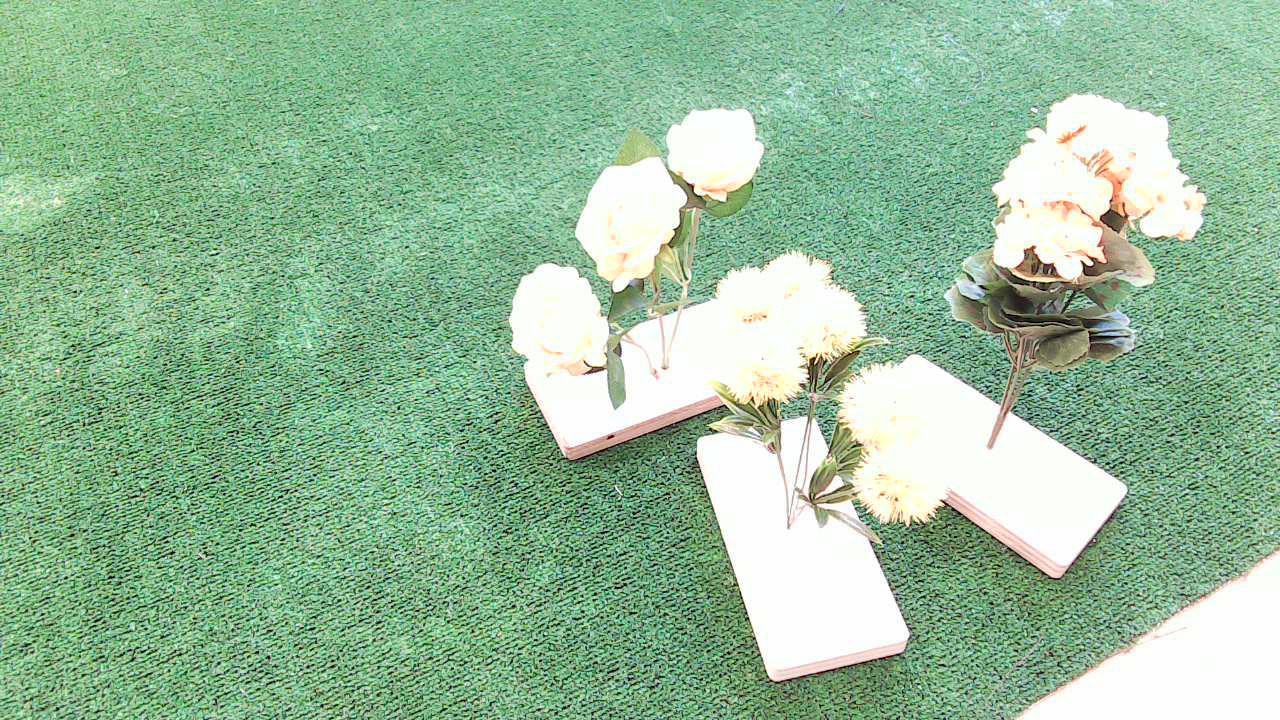dandelion: (698, 255, 967, 555)
geranium: (935, 90, 1229, 393)
rose: (561, 107, 789, 298)
